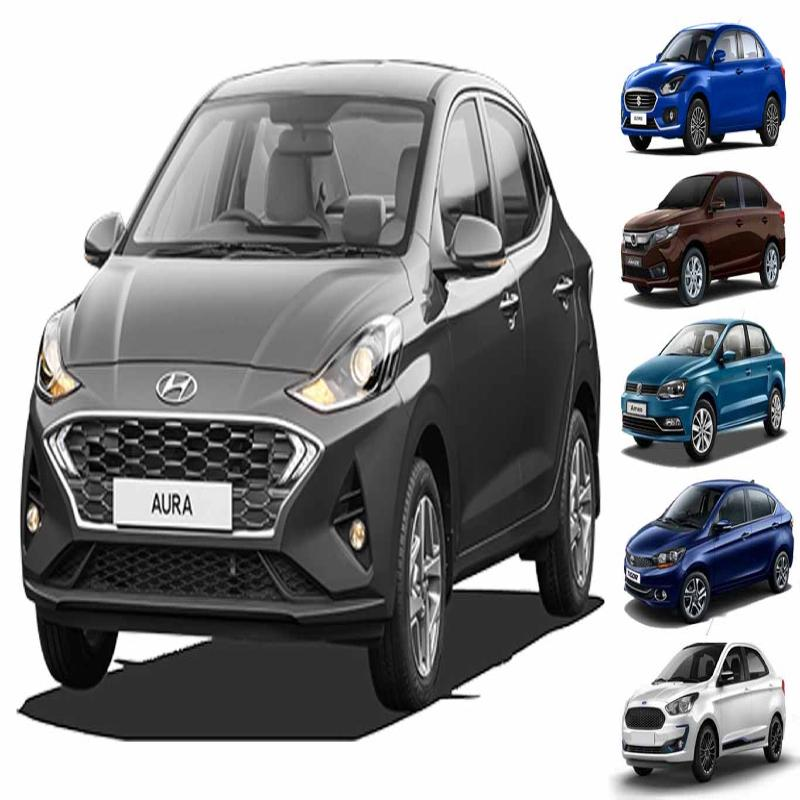car: (11, 36, 615, 675), (623, 157, 800, 318), (614, 638, 789, 790), (628, 320, 790, 460), (634, 478, 788, 604), (615, 38, 800, 140)
